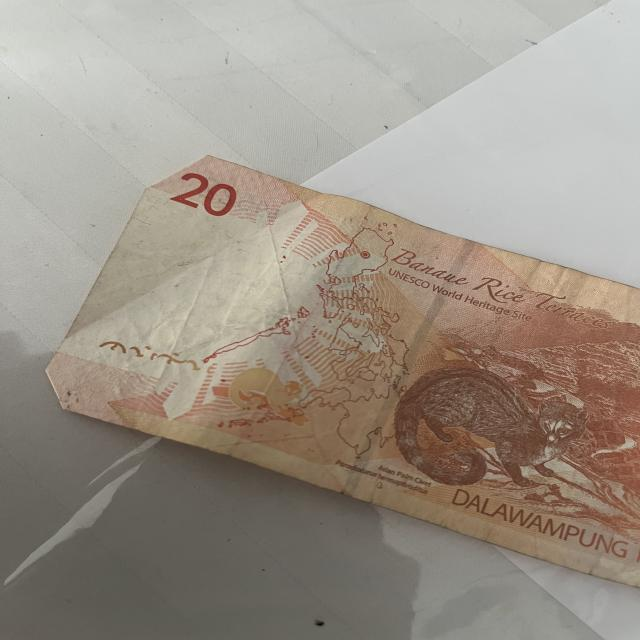20_civet: (376, 358, 576, 487)
20_civet_watermark: (220, 362, 307, 417)
